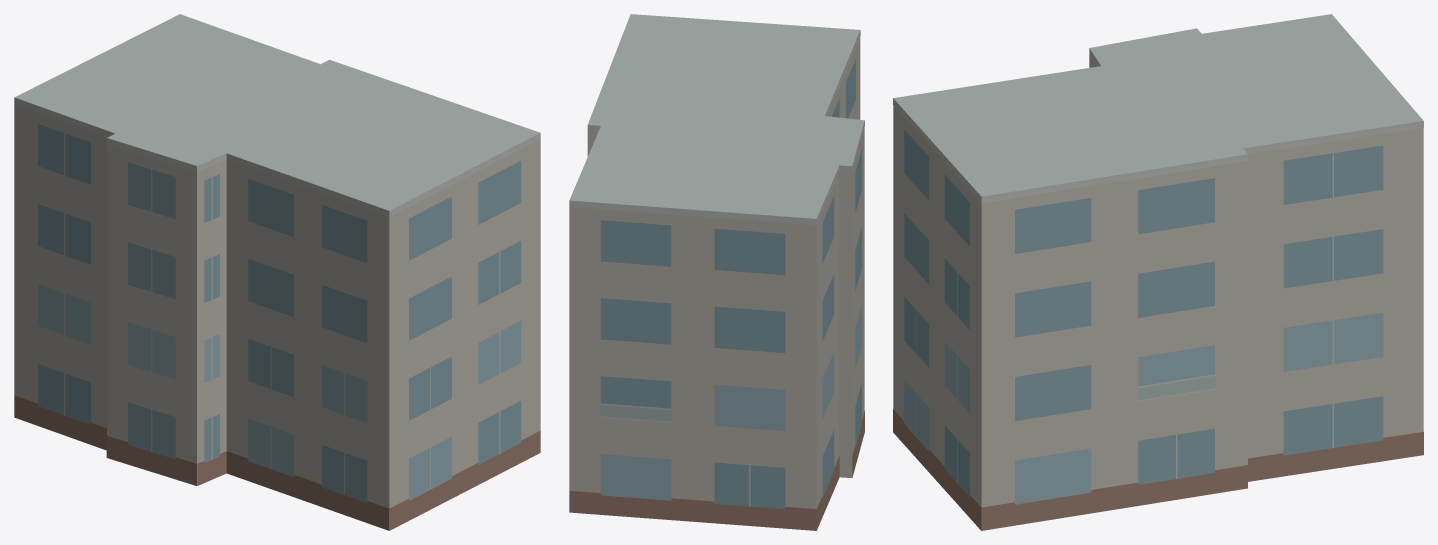
The model's file is survey-upis-32698463.glb.
The picture shows the model from 3 angles, left to right: view 1: azimuth 30°, elevation 25°; view 2: azimuth 150°, elevation 25°; view 3: azimuth 270°, elevation 25°; orthographic projection. The views are drawn at different scales.
Visible parts, largest first — view 1: survey-upis-32698463.tmp; view 2: survey-upis-32698463.tmp; view 3: survey-upis-32698463.tmp.
Boxes of the visible parts, bbox=[...] form: survey-upis-32698463.tmp: bbox=[14, 14, 540, 530]; survey-upis-32698463.tmp: bbox=[569, 14, 864, 530]; survey-upis-32698463.tmp: bbox=[893, 14, 1423, 530].
Size of the model in its own units: 14.31 by 12.2 by 17.57.
